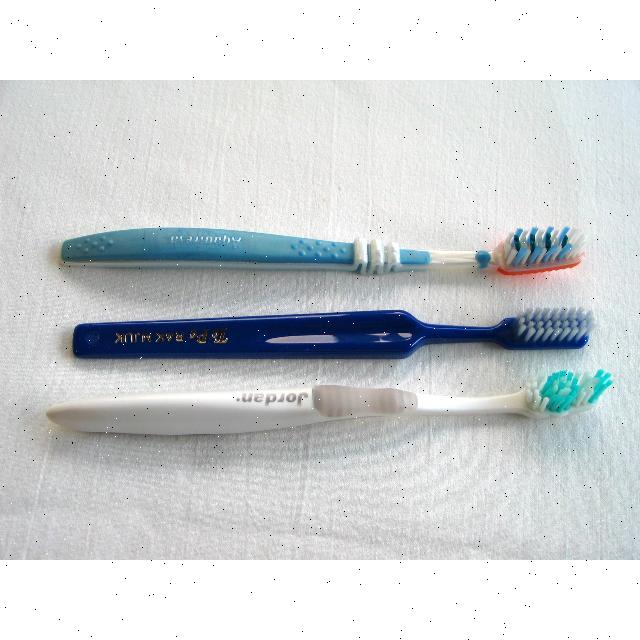toothbrush: (30, 175, 622, 297)
